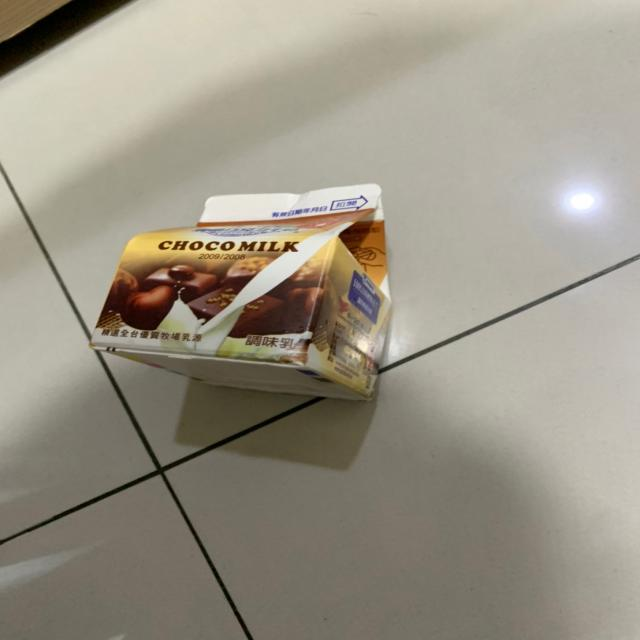non_white_jug: (62, 177, 420, 433)
